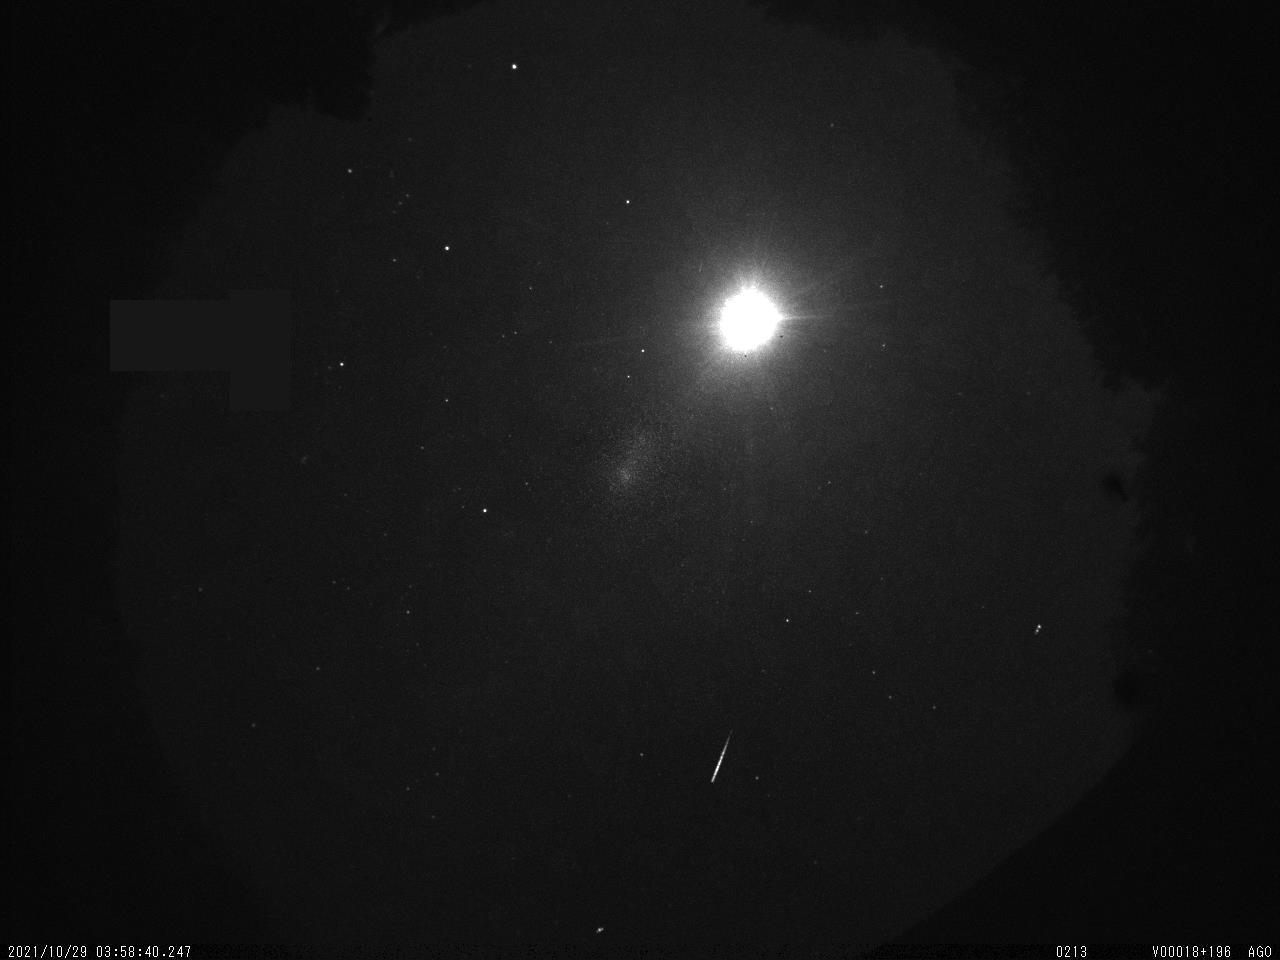meteor: (709, 728, 735, 784)
